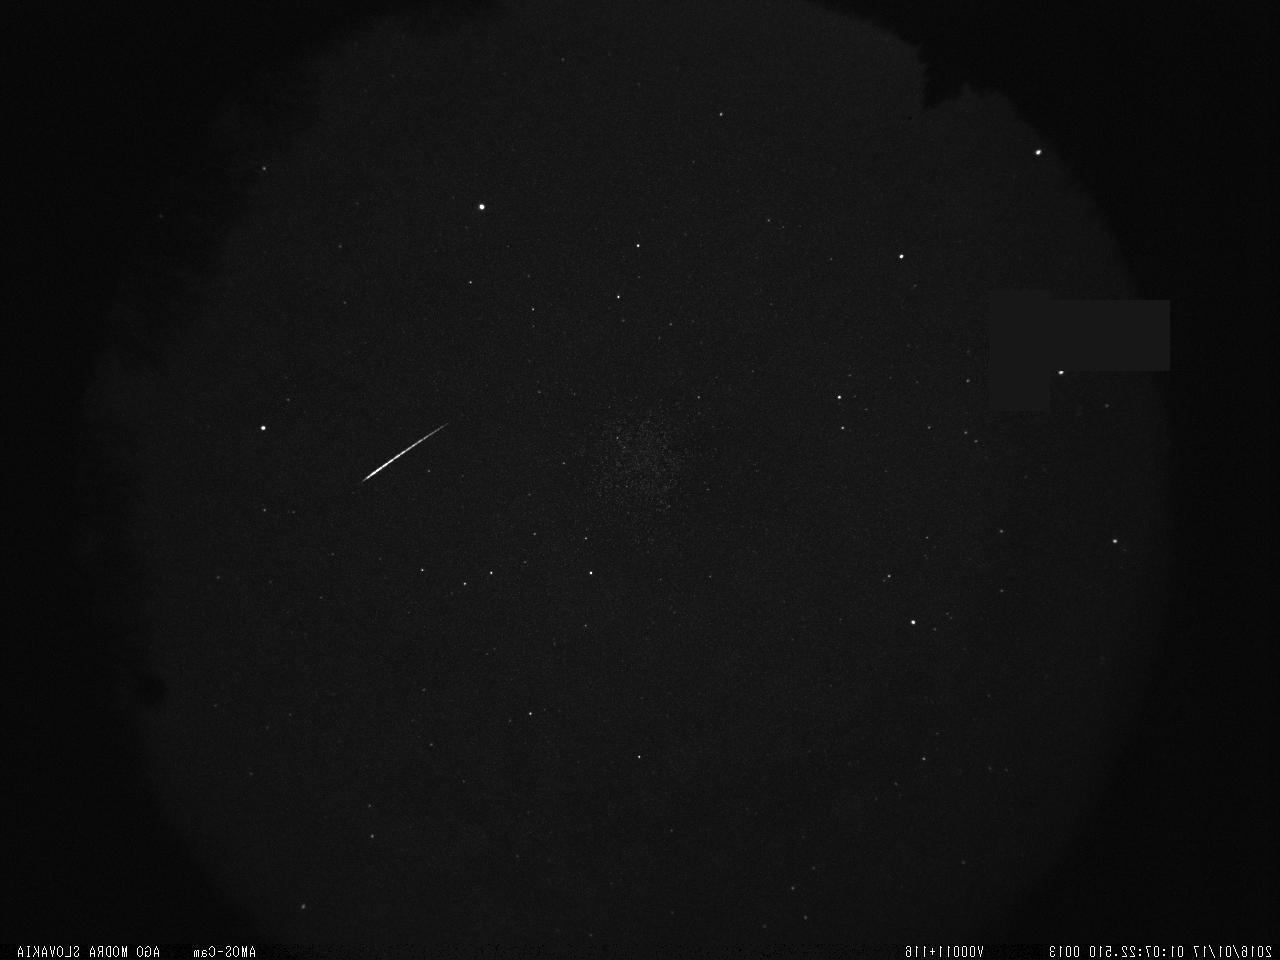meteor: (324, 396, 491, 507)
